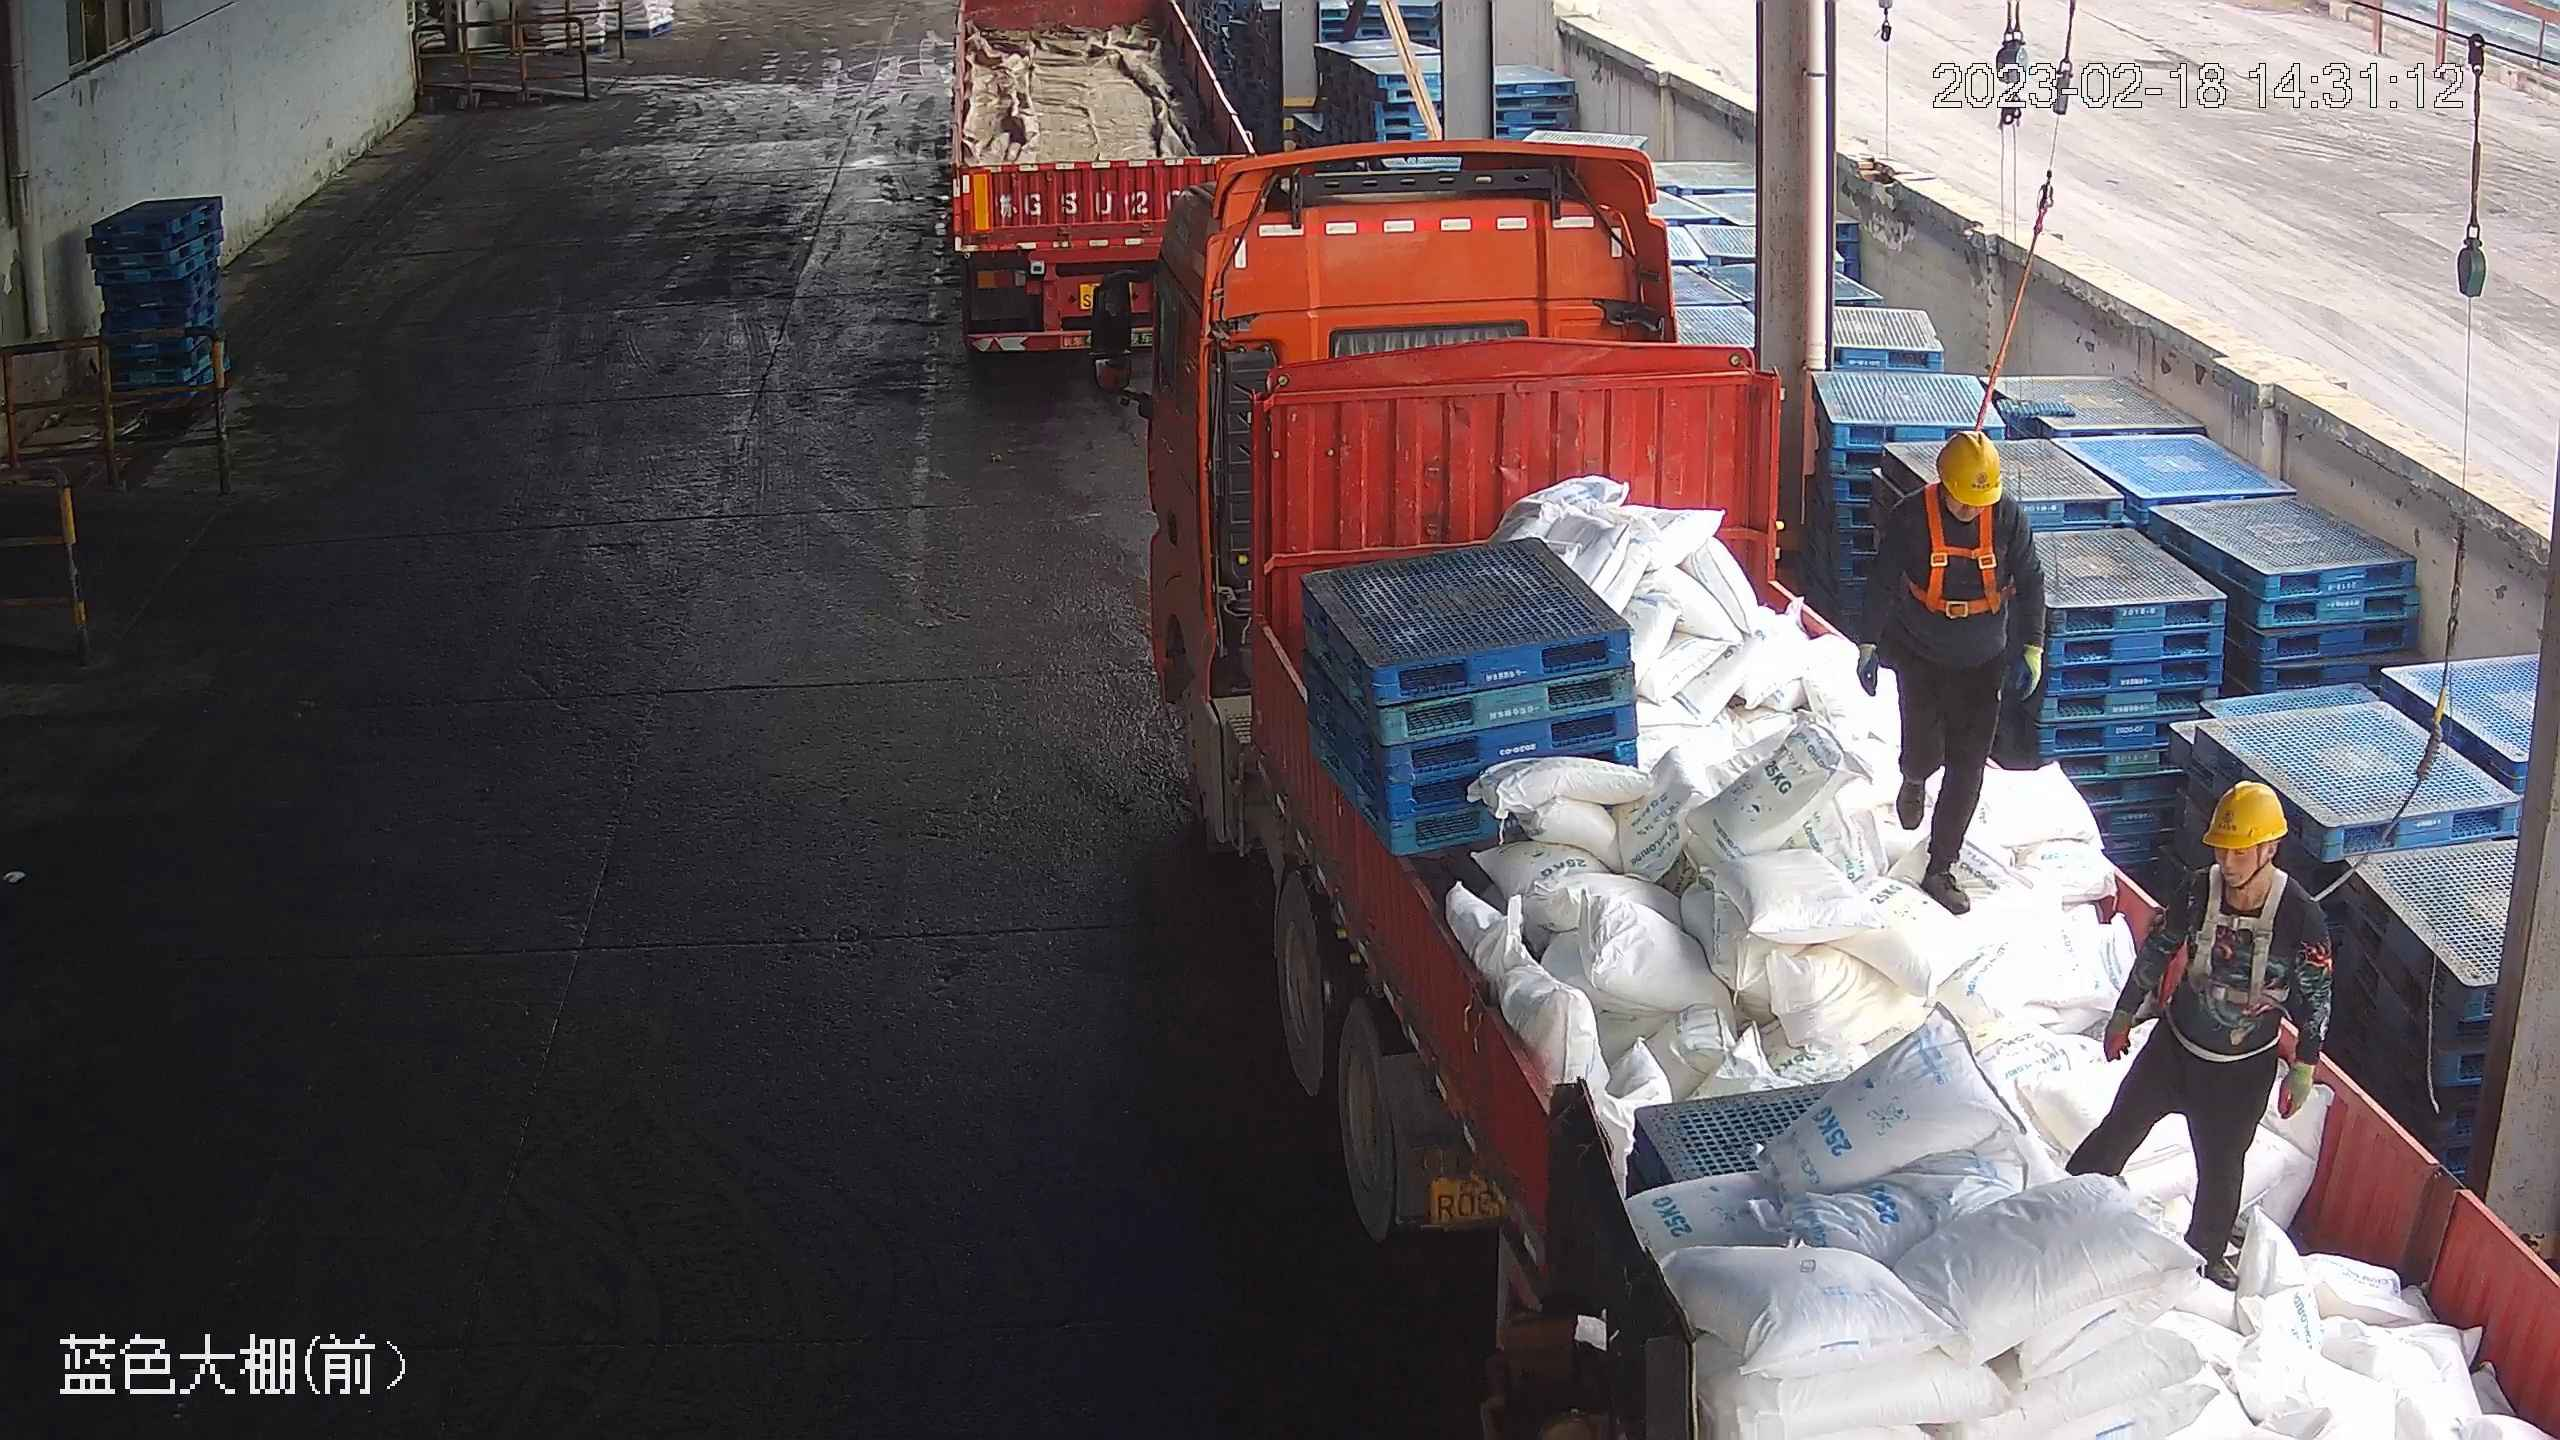belt: (2184, 866, 2308, 1006), (1912, 484, 2012, 617)
head: (2163, 777, 2325, 949), (1881, 427, 2036, 562)
helmet: (2200, 776, 2287, 849), (1935, 426, 2009, 507)
people: (2062, 779, 2336, 1292), (1856, 422, 2053, 915)
truck: (1083, 133, 2551, 1439), (935, 1, 1270, 370)
